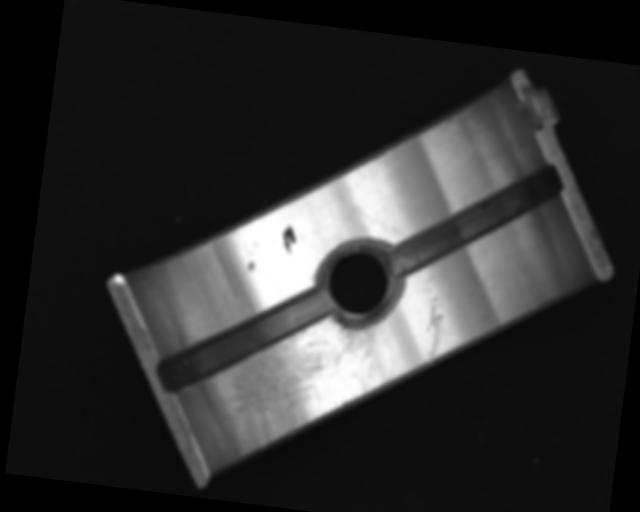blot: (281, 222, 298, 255)
bruise: (245, 258, 257, 275)
gap: (386, 148, 563, 293), (153, 273, 329, 407)
hole: (312, 238, 405, 330)
nick: (419, 295, 448, 366)
scratch: (221, 305, 383, 475)
